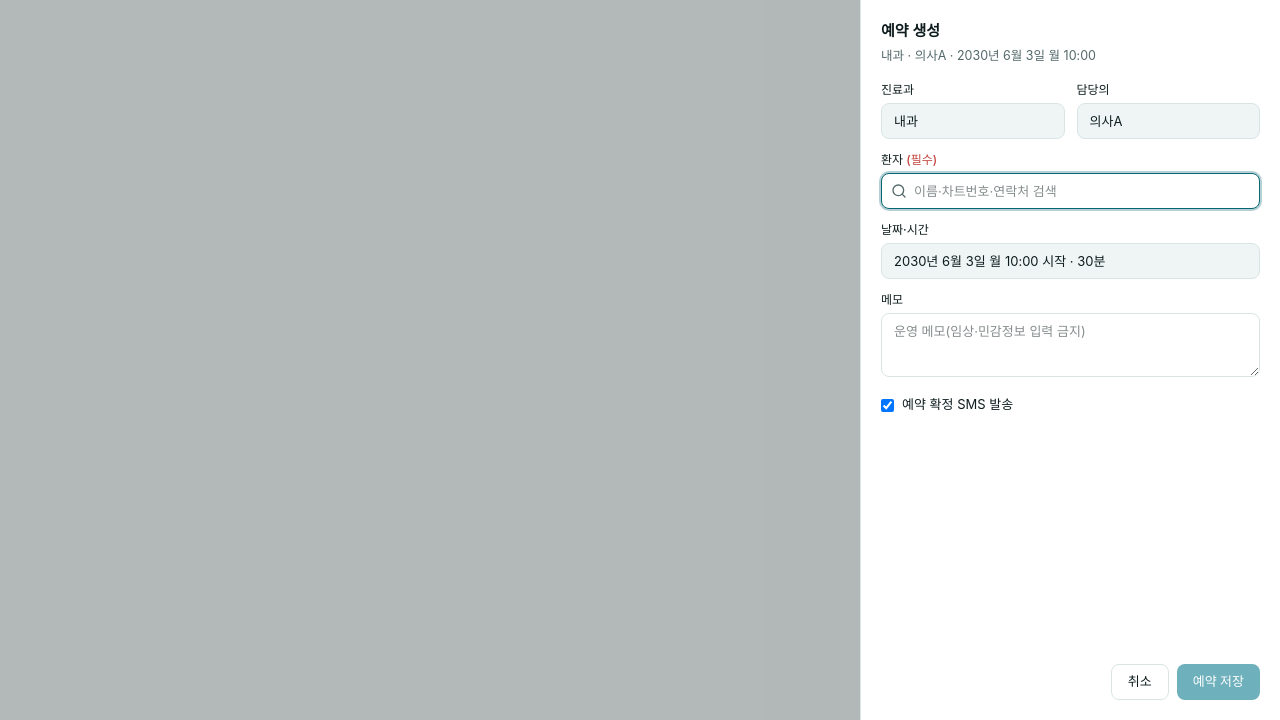
Scenario: BookingPeek › 노쇼 임계 초과 환자 선택 → 프로액티브 경고 + 저장 버튼 비활성(6.7 AC4)
The width and height of the screenshot is (1280, 720).
Type "홍" into the field with placeholder "이름·차트번호·연락처 검색".
click(1070, 191); type("홍")  # box [881, 173, 1260, 209]
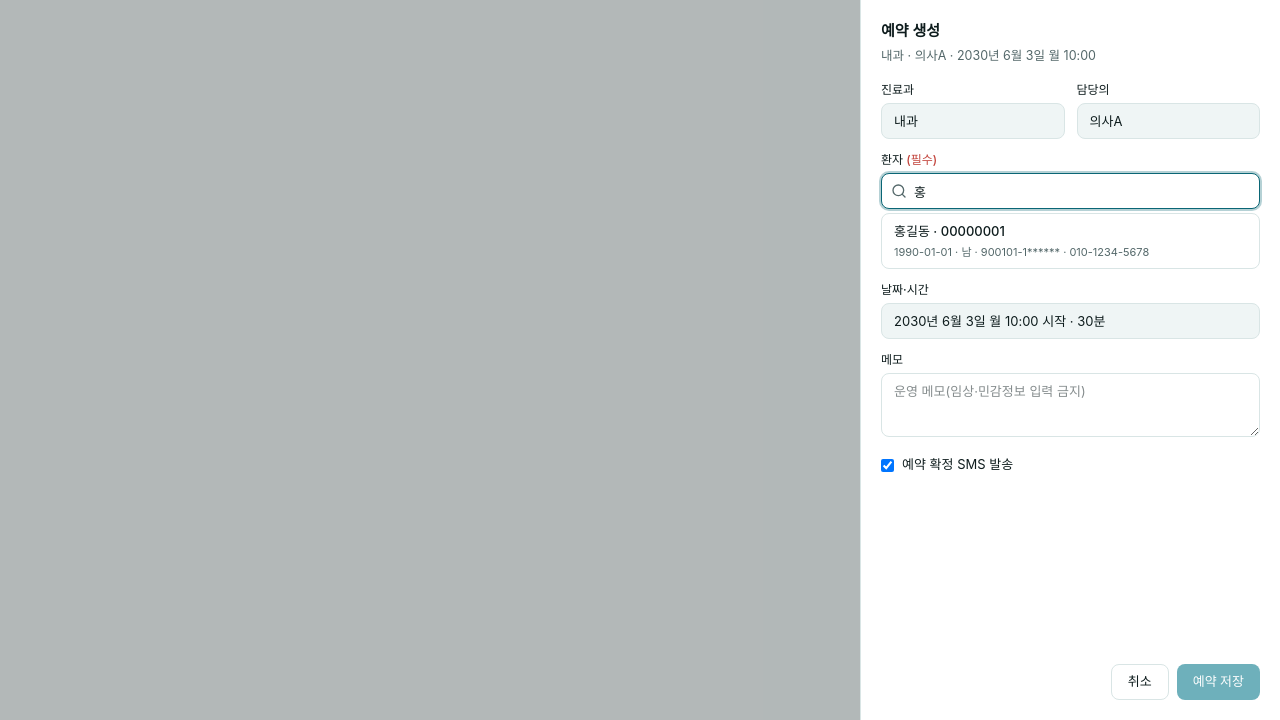
Click the text "홍길동 · 00000001".
click(949, 232)  # box [894, 222, 1005, 242]
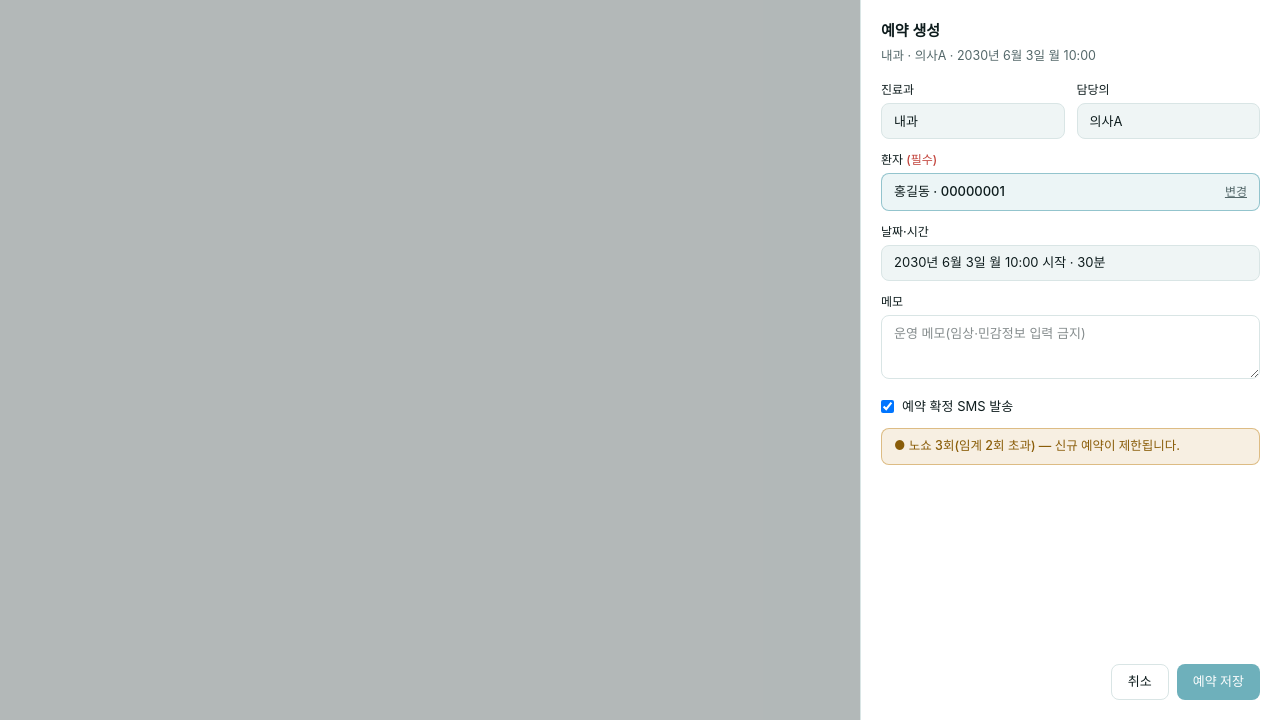
Expected: the button "예약 저장" is disabled, [1177, 664, 1260, 700]
Expected: the message shows "신규 예약이", [894, 438, 1180, 453]
